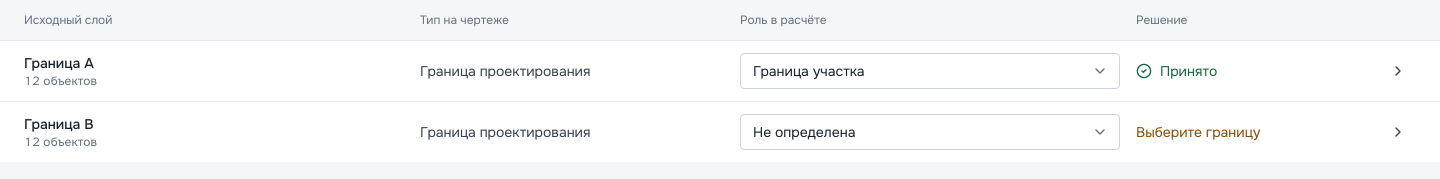
Test: LayerMappingTable › keeps legacy boundary selection available and shows the discarded boundary as excluded
Select "Граница участка" in the dropdown named "Роль в расчёте Граница B": [930, 132] box [740, 114, 1120, 150]
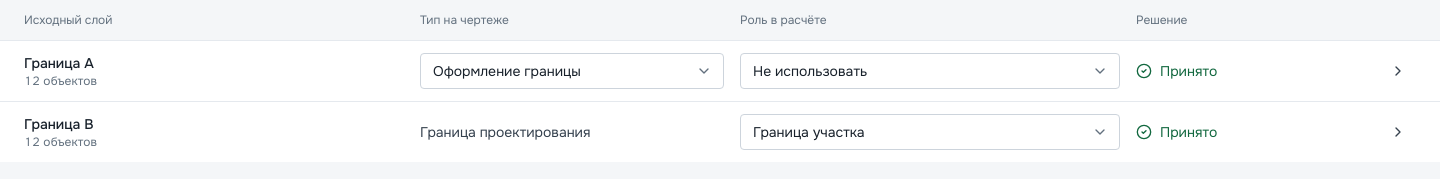
Expected: the dropdown named "Роль в расчёте Граница A" shows "Не использовать", [740, 53, 1120, 89]
Expected: the dropdown named "Тип на чертеже Граница A" shows "Оформление границы", [420, 53, 724, 89]
Expected: the text "Принято" is shown 2 times, [1136, 62, 1217, 80]; [1136, 123, 1217, 141]
